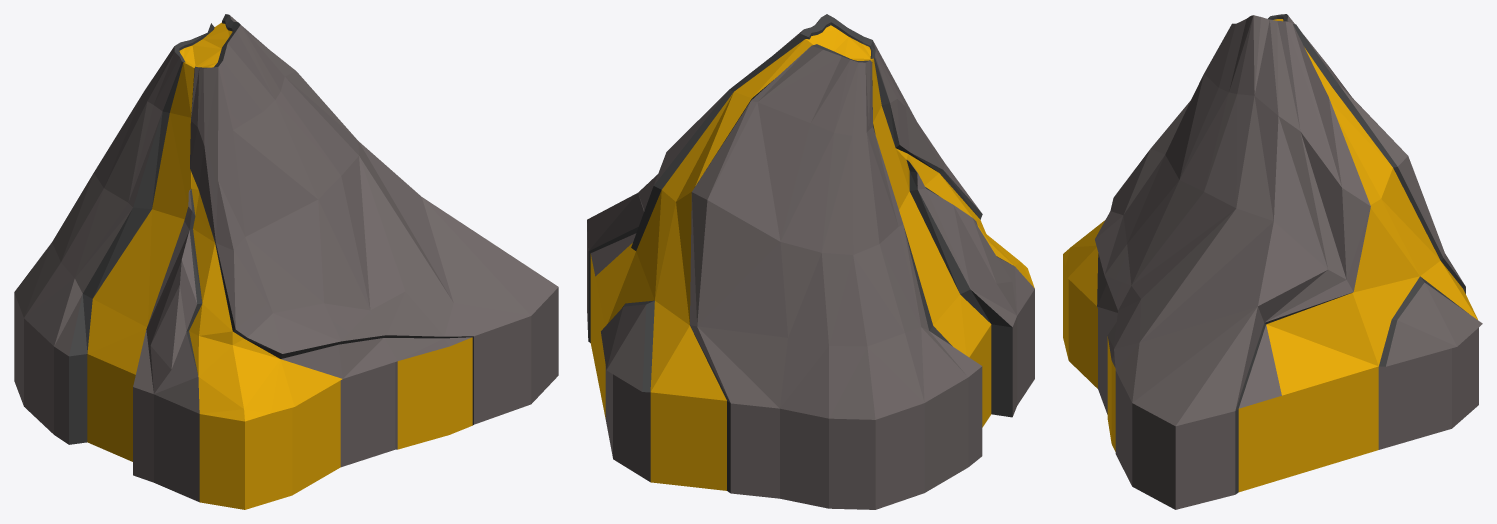
The model's file is vulcano.fbx.
3 views of the same model, side by side, from view 1: azimuth 30°, elevation 25°; view 2: azimuth 150°, elevation 25°; view 3: azimuth 270°, elevation 25° (orthographic). The views are drawn at different scales.
Parts seen in each view (by area): view 1: vulcano; view 2: vulcano; view 3: vulcano.
Boxes of the visible parts, box(x1,y1,x2,y2) form: vulcano: box(14, 14, 558, 509); vulcano: box(587, 14, 1034, 509); vulcano: box(1063, 14, 1482, 509).
Bounding box in the file's own units: 1106 × 933 × 968.
